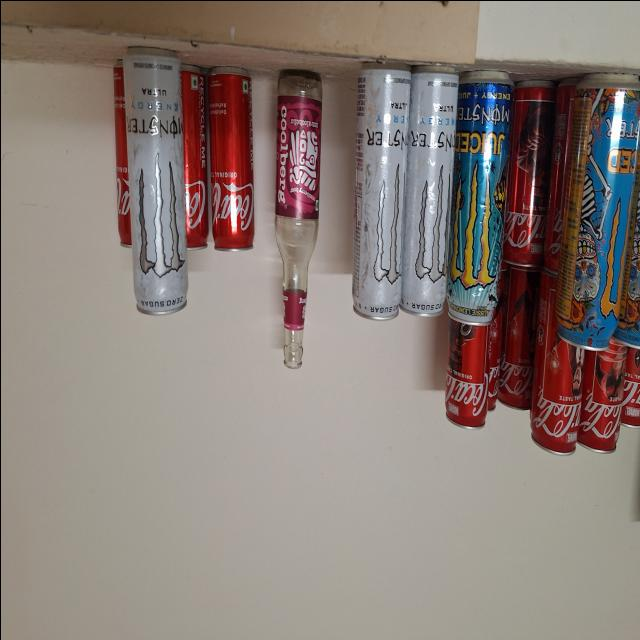Coca Cola: (205, 71, 255, 253), (495, 266, 535, 408), (182, 64, 210, 248), (110, 62, 129, 245), (618, 344, 640, 428), (484, 310, 502, 406)
Coca Cola - Marvel: (511, 74, 553, 264), (530, 342, 580, 454), (444, 328, 490, 428), (579, 356, 622, 452)
Monster Aussie Lemonade: (446, 74, 509, 325)
Monster Mango Loco: (558, 65, 640, 340)
White Monster: (126, 54, 188, 312), (353, 66, 402, 318), (404, 77, 454, 316)
